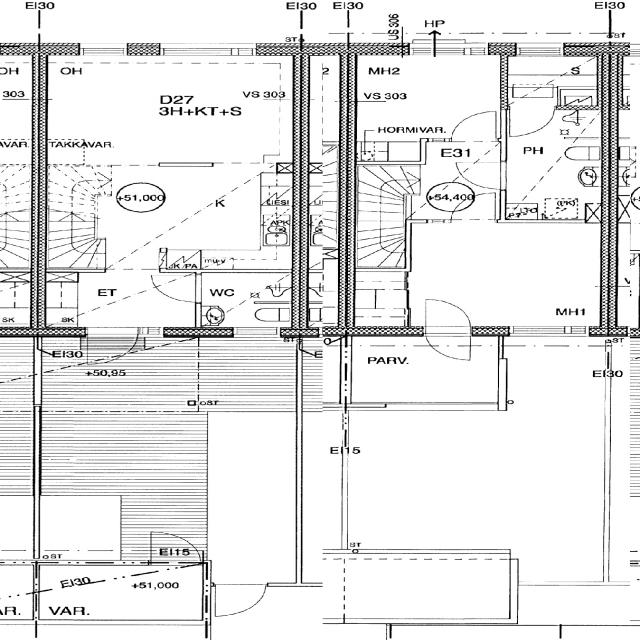door: (87, 327, 138, 365), (425, 326, 470, 363), (425, 300, 470, 336), (152, 532, 200, 565), (509, 106, 554, 138), (450, 193, 496, 223), (450, 112, 496, 142), (150, 276, 201, 302), (456, 162, 506, 188)
